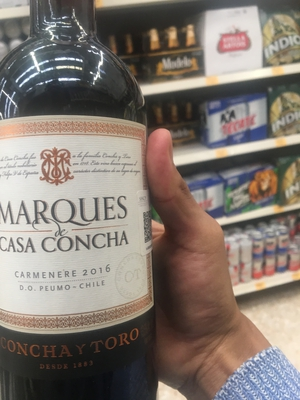marques de casa concha carmenere: (1, 20, 165, 394)
